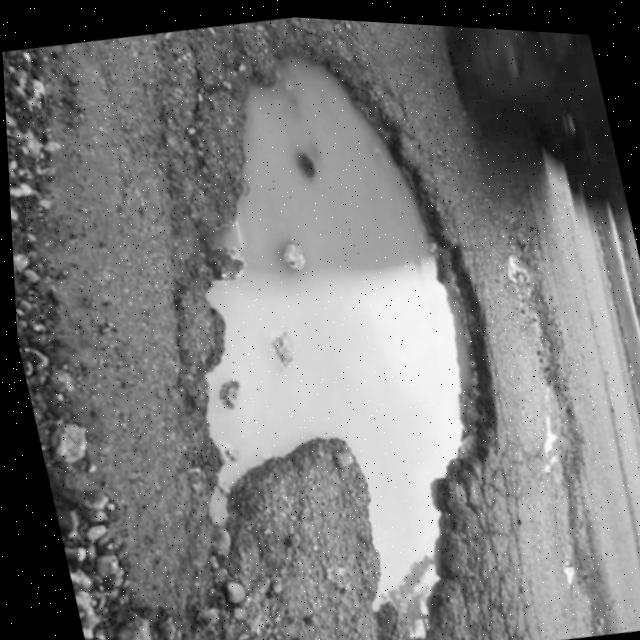Pothole: (100, 5, 567, 640)
